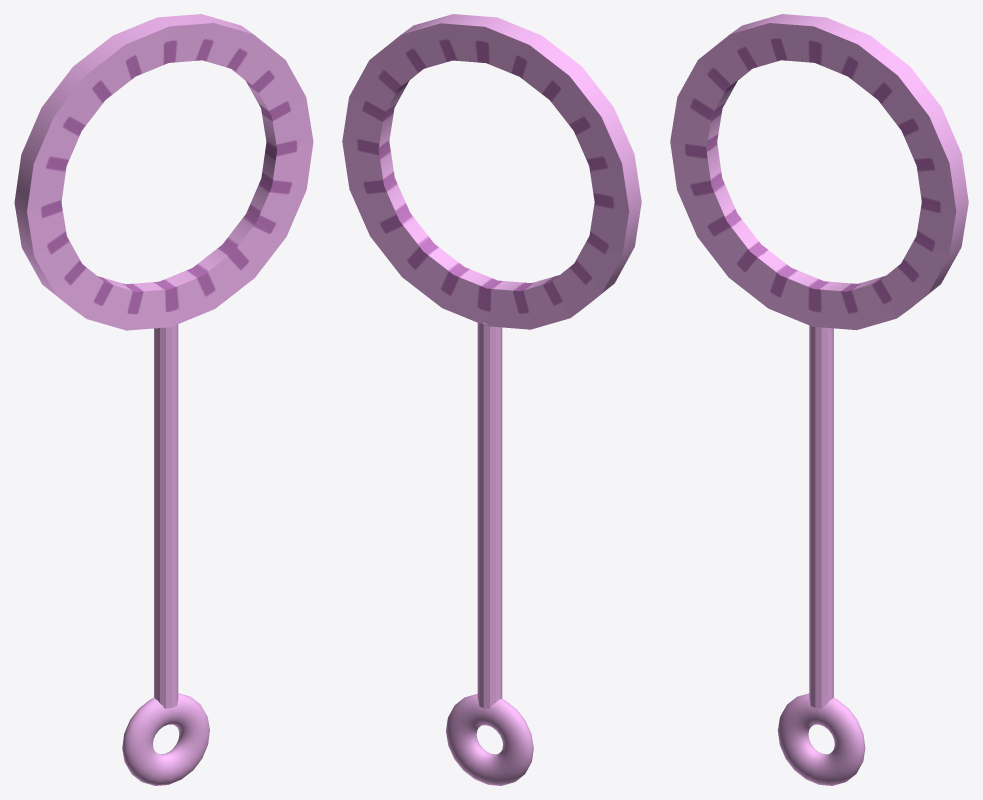
The model's file is wand.fbx.
3 renders of one model, left to right at view 1: azimuth 30°, elevation 25°; view 2: azimuth 150°, elevation 25°; view 3: azimuth 330°, elevation 25°, orthographic.
Parts seen in each view (by area): view 1: wand:pCylinder6; view 2: wand:pCylinder6; view 3: wand:pCylinder6.
Boxes of the visible parts, left/top/right/bottom form: wand:pCylinder6: left=14, top=14, right=313, bottom=785; wand:pCylinder6: left=342, top=14, right=641, bottom=785; wand:pCylinder6: left=670, top=14, right=968, bottom=785.
Size of the model in its own units: 6.09 by 15.48 by 0.5057.
Materials: 1 (1 with a texture image).
